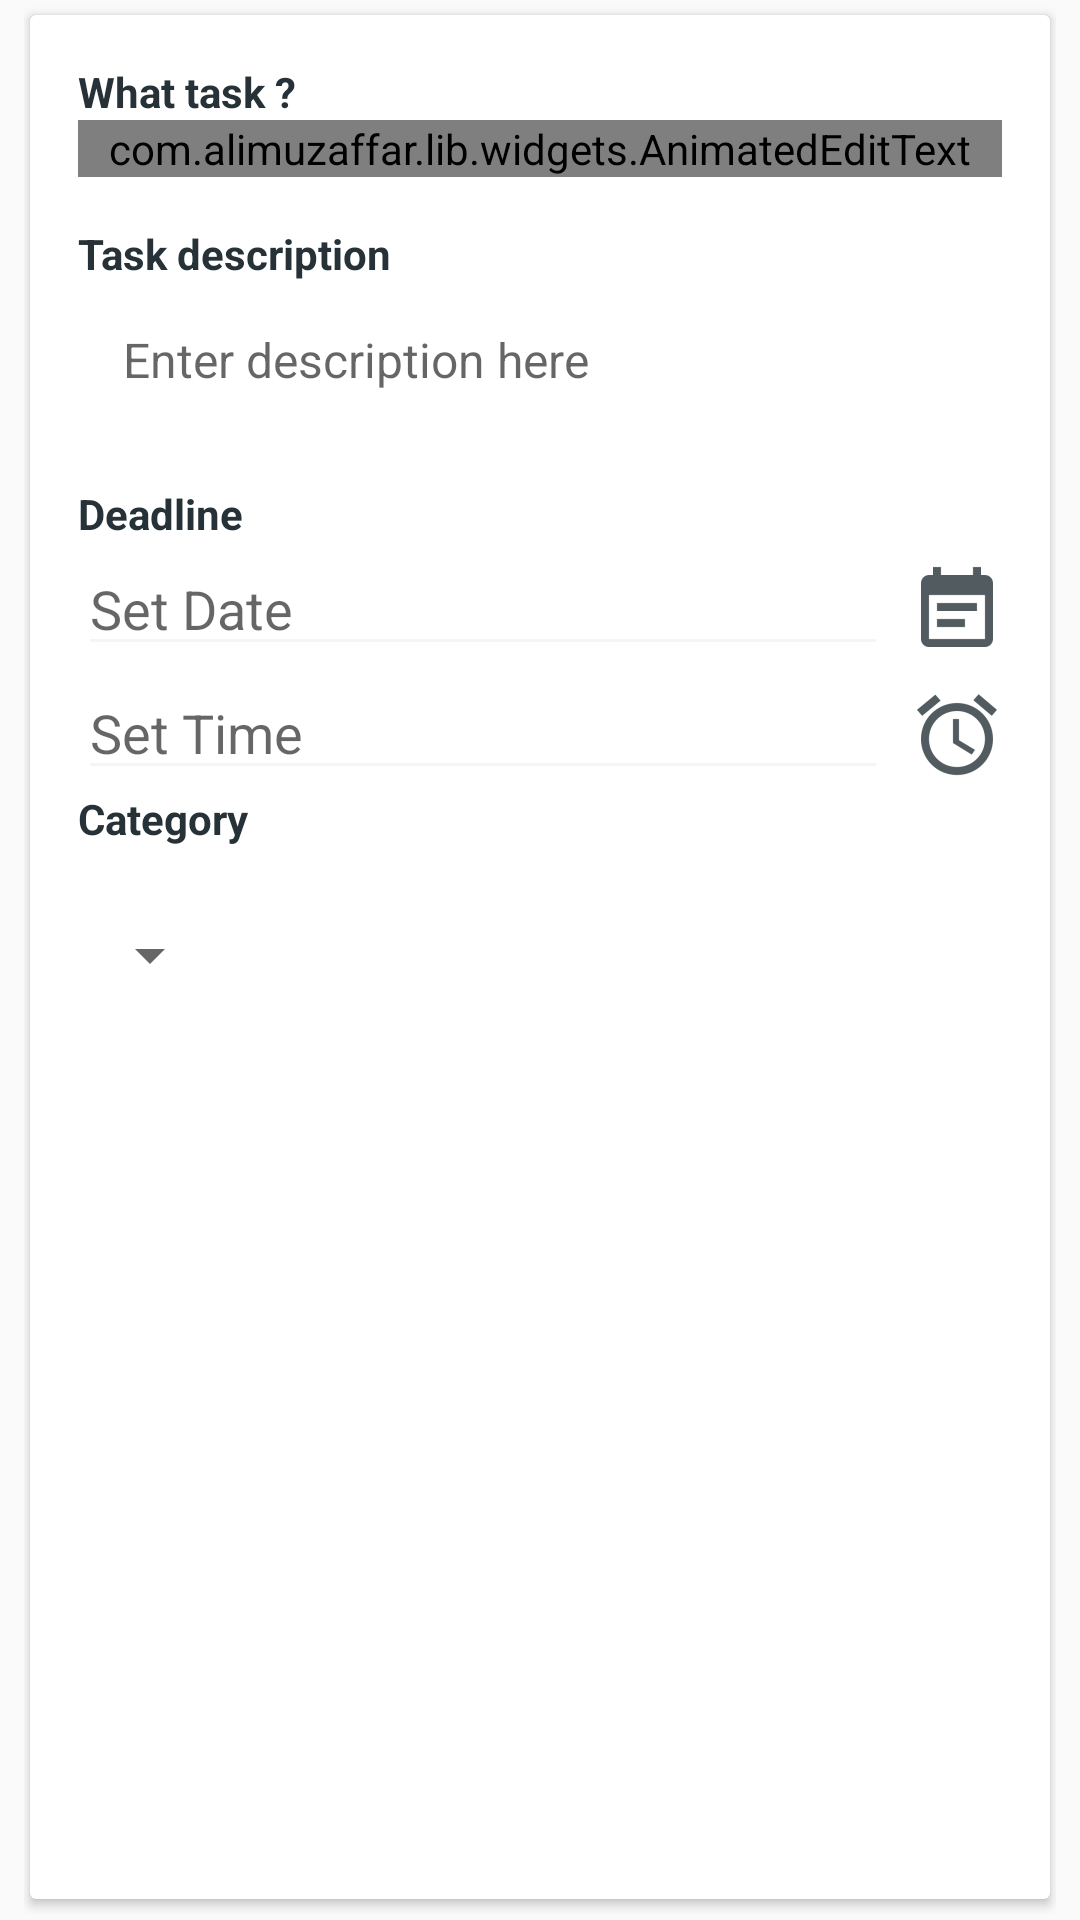

Icon click points for this 1080w x 1920h phone screenshot, format (x,y):
calendar: (957,607)
